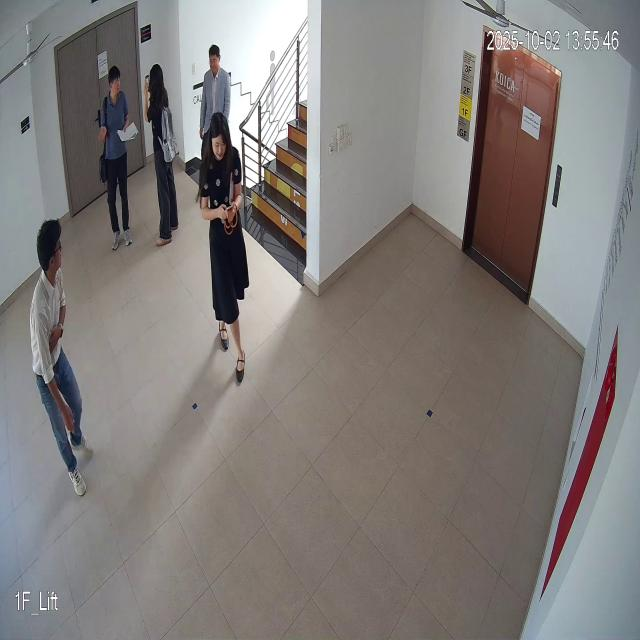face: (203, 108, 235, 169)
